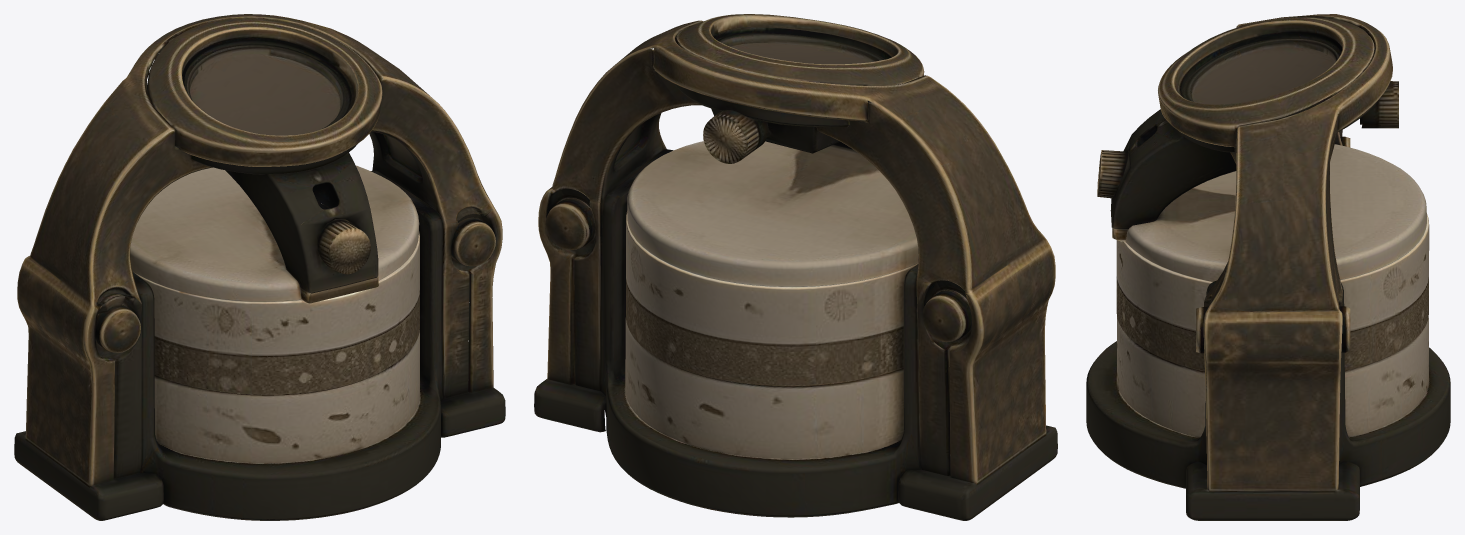
File: archaeology-scanner.glb
3 views of the same model, side by side, from view 1: azimuth 30°, elevation 25°; view 2: azimuth 150°, elevation 25°; view 3: azimuth 270°, elevation 25° (orthographic). The views are drawn at different scales.
Visible parts, largest first — view 1: tripo_14453841_cfc3_474d_a8ca_18aa9ec9b1c2; view 2: tripo_14453841_cfc3_474d_a8ca_18aa9ec9b1c2; view 3: tripo_14453841_cfc3_474d_a8ca_18aa9ec9b1c2.
Part boxes in pixels (x1,y1,x2,y2): tripo_14453841_cfc3_474d_a8ca_18aa9ec9b1c2: [14, 14, 505, 520]; tripo_14453841_cfc3_474d_a8ca_18aa9ec9b1c2: [534, 14, 1057, 520]; tripo_14453841_cfc3_474d_a8ca_18aa9ec9b1c2: [1086, 14, 1450, 520].
Bounding box in the file's own units: 0.9995 × 0.8813 × 0.7642.
1 material, 1 textured.
